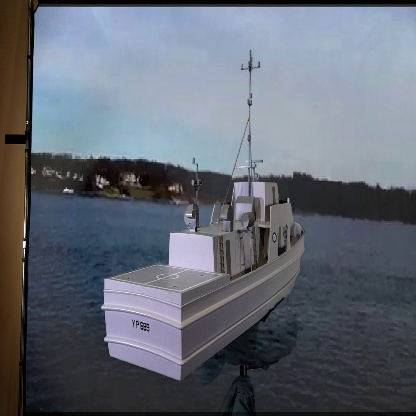YP689: (101, 41, 305, 383)
